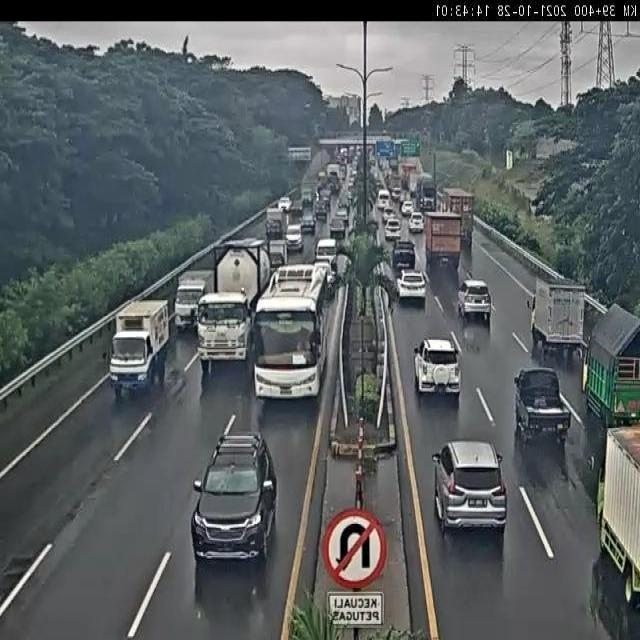Bus: (252, 260, 331, 407)
Car: (192, 433, 279, 564), (432, 439, 508, 534), (414, 338, 463, 401), (457, 279, 492, 323), (396, 266, 426, 305), (392, 240, 416, 267), (284, 223, 304, 248), (329, 214, 346, 238), (384, 218, 401, 241), (302, 210, 318, 234), (408, 213, 424, 233), (277, 194, 293, 211), (399, 201, 414, 218), (382, 206, 396, 224)
Truck: (196, 238, 274, 374), (589, 420, 640, 618), (580, 298, 640, 422), (107, 296, 170, 393), (512, 368, 572, 444), (527, 276, 584, 356), (174, 267, 214, 327), (423, 208, 462, 268), (439, 184, 475, 243), (418, 177, 437, 209), (264, 207, 284, 237), (300, 182, 315, 208)
Van: (314, 239, 338, 266), (377, 187, 391, 209)
